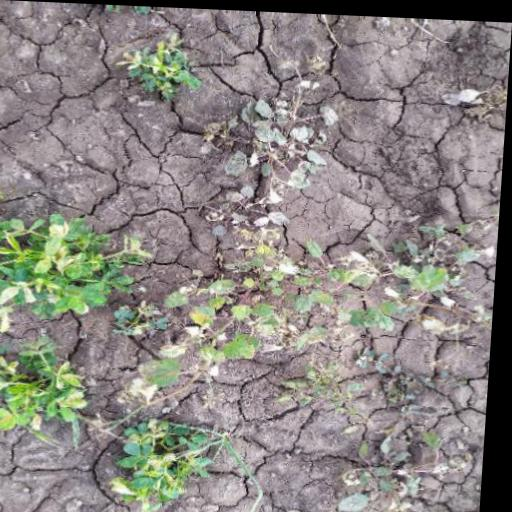weed: (172, 111, 504, 382), (0, 180, 155, 454), (113, 36, 202, 98)
